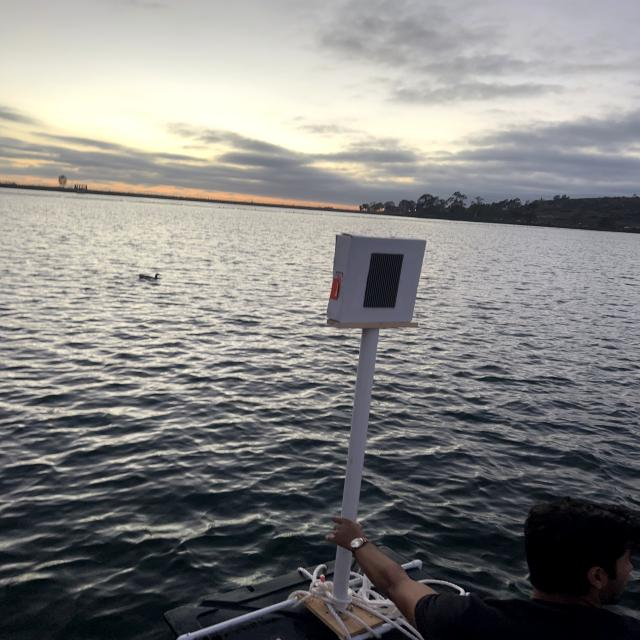led: (348, 240, 413, 330)
